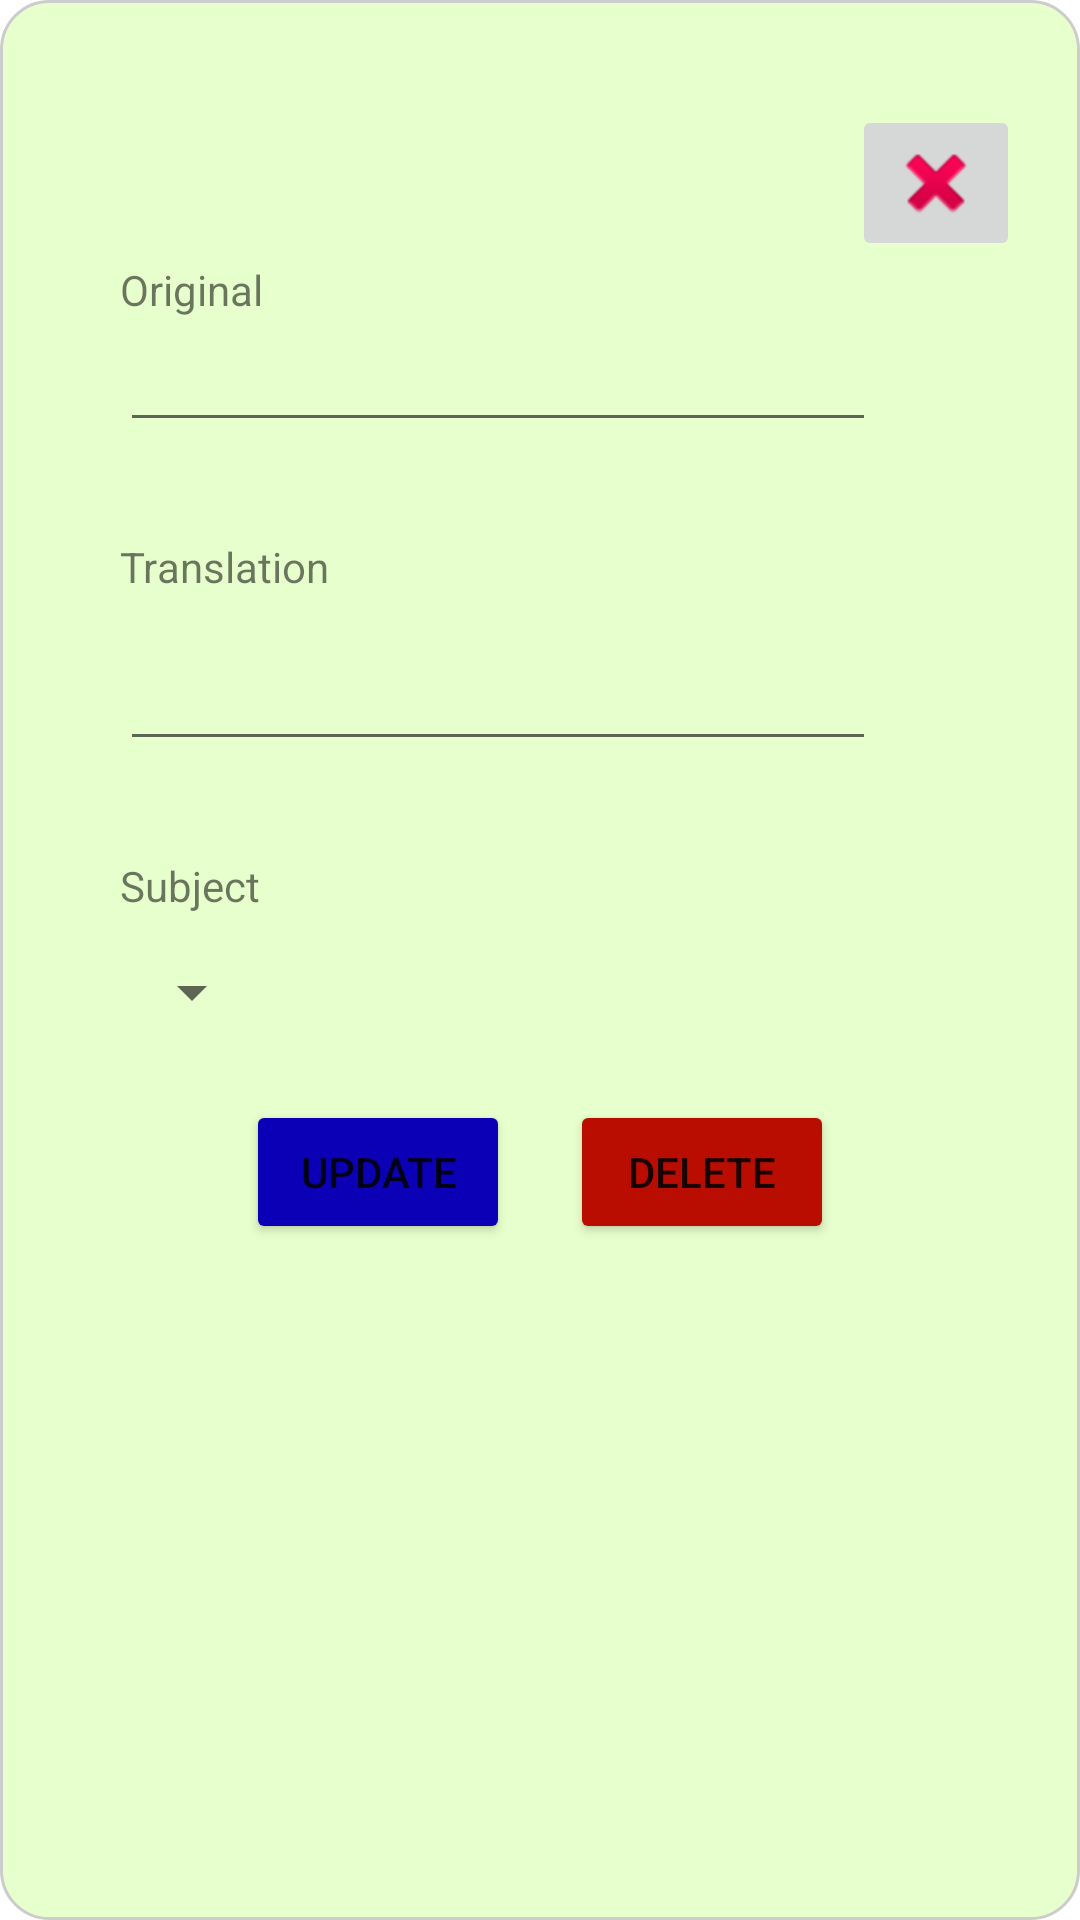

Point at icon controls on the screen. Image size 1080px×1920px, points as point (x, y).
delete: point (936, 183)
